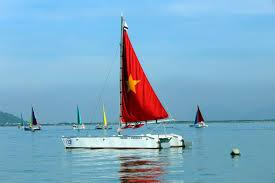Ship: (51, 17, 189, 153), (22, 105, 47, 132), (70, 102, 91, 131), (96, 103, 116, 132), (191, 103, 209, 132)
